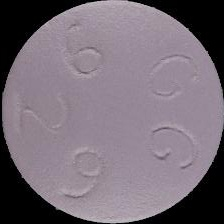49999-918: (0, 0, 224, 224)
